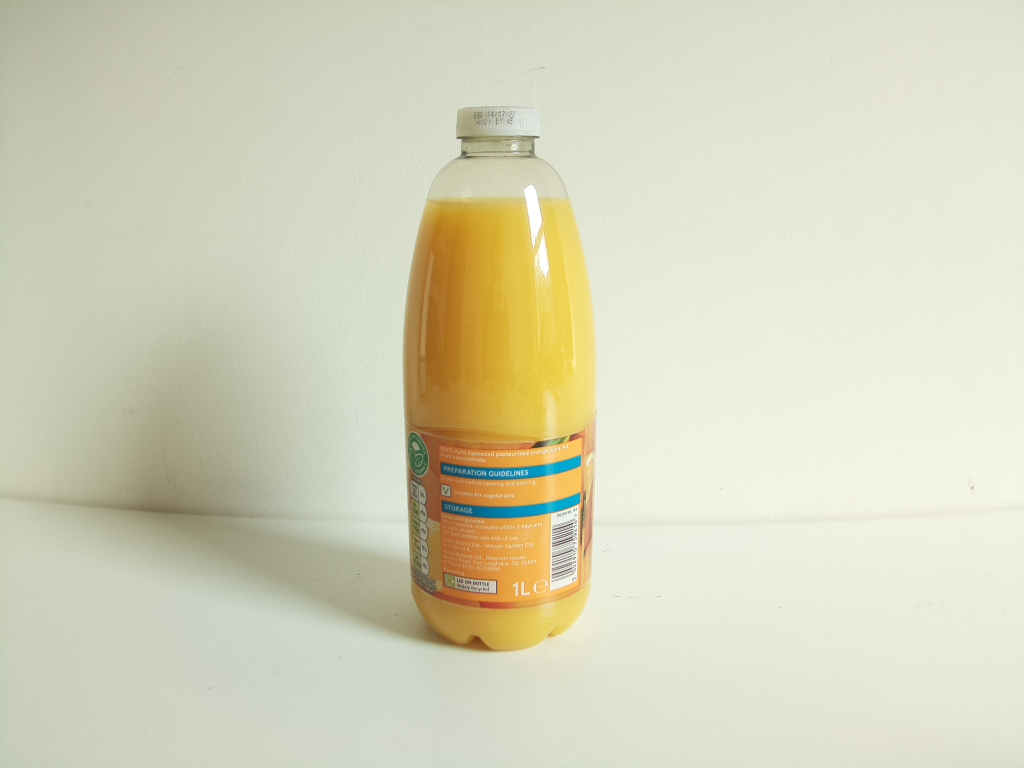juice: (394, 98, 601, 659)
